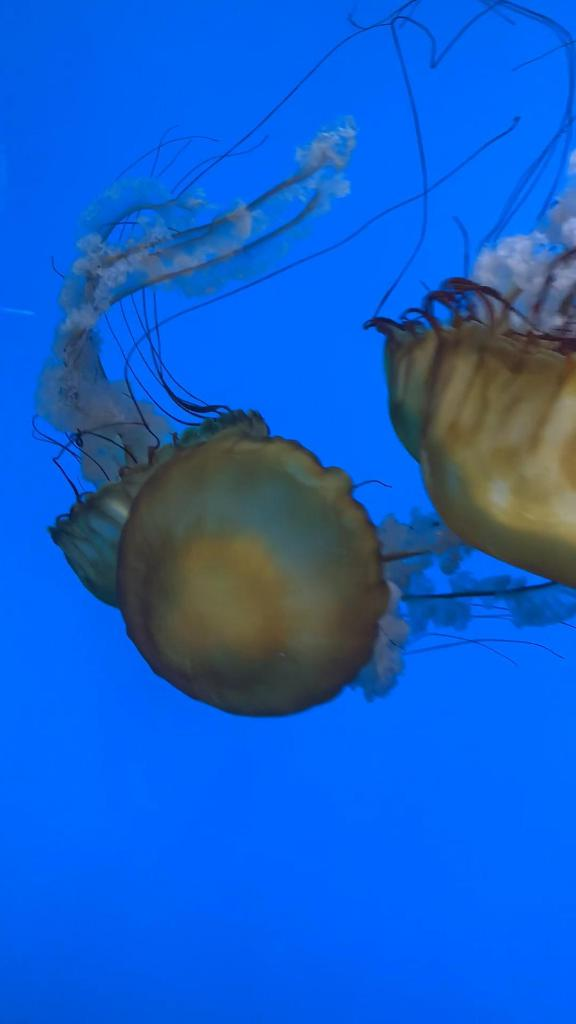jellyfish: (117, 411, 389, 719), (385, 322, 575, 592), (51, 416, 267, 610)
